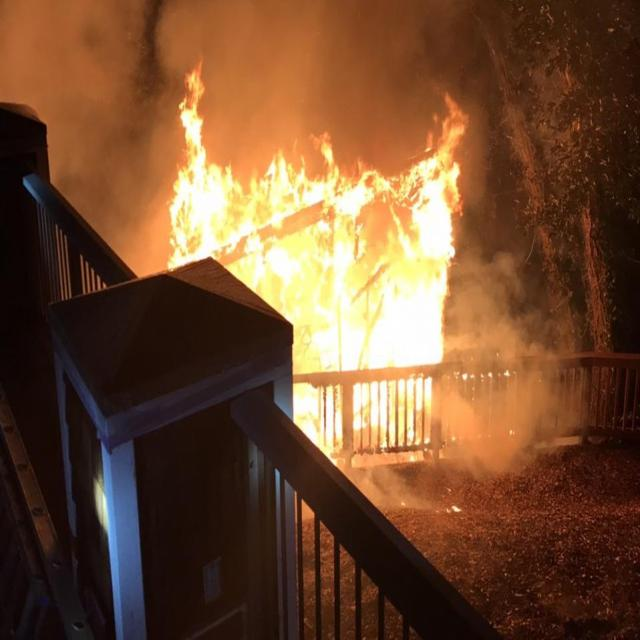fire: (171, 90, 465, 462)
